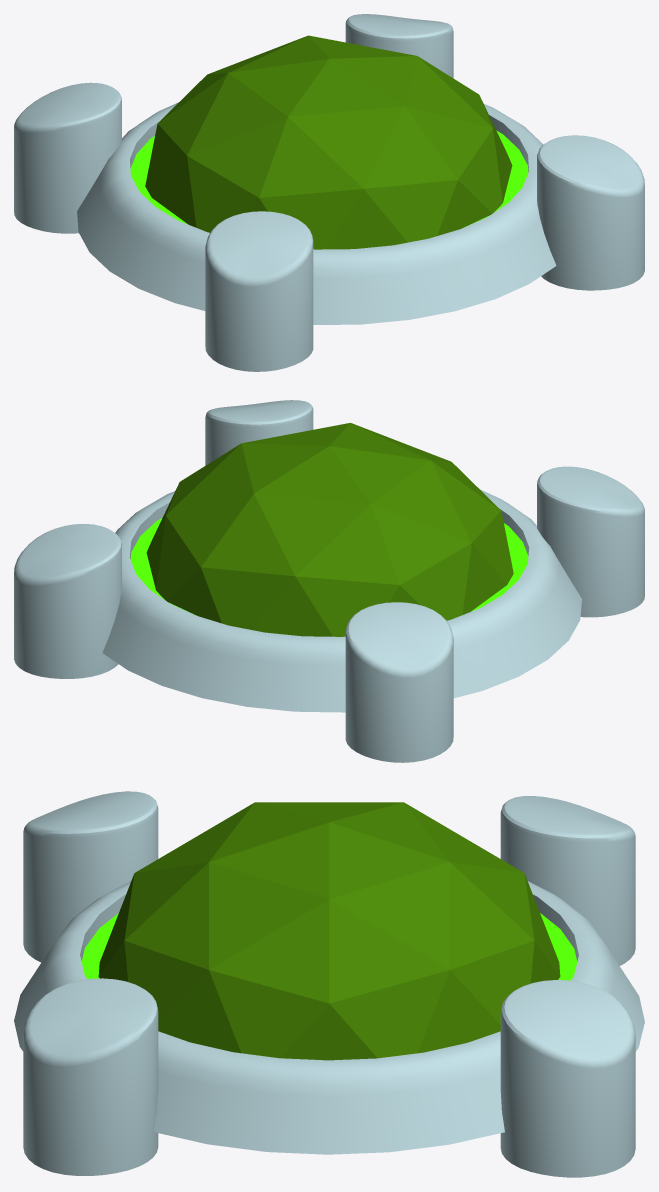
Rendered from Gas Trap.glb.
3 renders of one model, top to bottom at view 1: azimuth 30°, elevation 25°; view 2: azimuth 150°, elevation 25°; view 3: azimuth 270°, elevation 25°, orthographic. The views are drawn at different scales.
Parts seen in each view (by area): view 1: Gas Trap; view 2: Gas Trap; view 3: Gas Trap.
Boxes of the visible parts, box(x1,y1,x2,y2) form: Gas Trap: box(14, 14, 644, 371); Gas Trap: box(14, 400, 644, 762); Gas Trap: box(14, 791, 644, 1177).
Size of the model in its own units: 1.57 by 0.6284 by 1.57.
